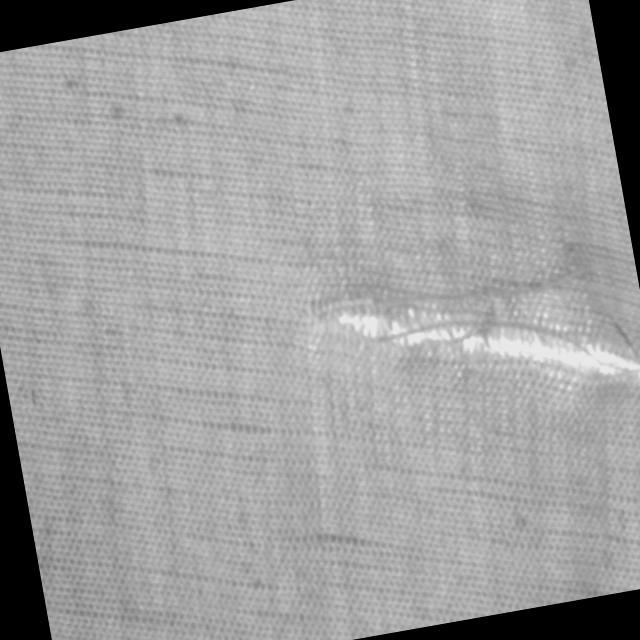hole: (302, 245, 640, 441)
